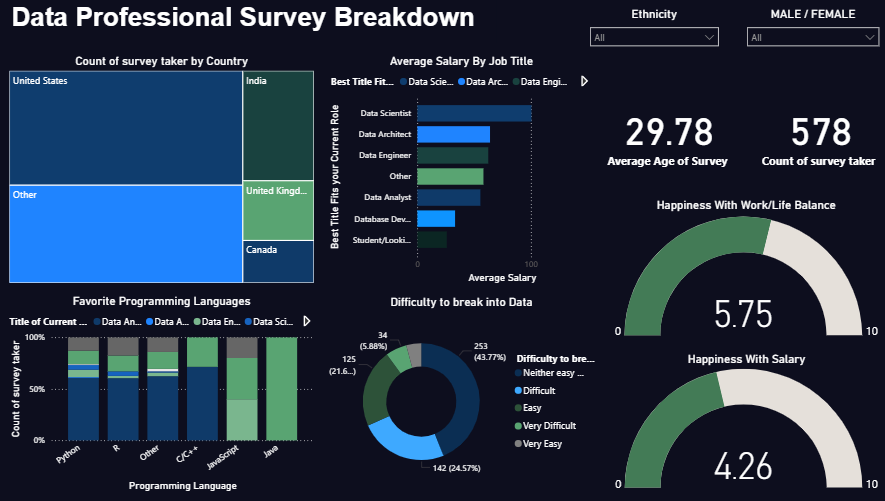

This screenshot's page, from the dashboard's own definition file:
{"tool":"powerbi","page":{"name":"SURVEY BREAKDOWN","canvas":[1280,720],"ordinal":0},"visuals":[{"type":"shape","box":[10.3,0,1269.7,720.4],"z":0},{"type":"textbox","box":[10.3,0,713.6,63.3],"z":1000},{"type":"card","fields":{"Values":["CountNonNull(Data Professional Survey.Unique ID)"]},"box":[1093.5,121.5,186.5,142],"z":2000},{"type":"card","fields":{"Values":["Avg(Data Professional Survey.Q10 - Current Age)"]},"box":[869.3,121.5,200.2,142],"z":3000},{"type":"treemap","fields":{"Group":["Data Professional Survey.Q11 - Which Country do you live in?.1"],"Values":["CountNonNull(Data Professional Survey.Unique ID)"]},"box":[22.2,78.7,444.9,332],"z":4000},{"type":"barChart","title":"Average Salary  By Job Title ","fields":{"Category":["Data Professional Survey.Q1 - Which Title Best Fits your Current Role?.1"],"Y":["Avg(Data Professional Survey.Average Salary )"],"Series":["Data Professional Survey.Q1 - Which Title Best Fits your Current Role?.1"]},"box":[479.1,78.7,390.2,332],"z":5000},{"type":"gauge","title":"Happiness With Work/Life Balance","fields":{"Y":["Avg(Data Professional Survey.Q6 - How Happy are you in your Current Position with the following? (Work/Life Balance))"],"MinValue":["Min(Data Professional Survey.Q6 - How Happy are you in your Current Position with the following? (Work/Life Balance))"],"MaxValue":["Max(Data Professional Survey.Q6 - How Happy are you in your Current Position with the following? (Work/Life Balance))1"]},"box":[883,284.1,395.3,208.8],"z":6000},{"type":"hundredPercentStackedColumnChart","title":"Favorite Programming Languages ","fields":{"Category":["Data Professional Survey.Q5 - Favorite Programming Language.1.1"],"Y":["CountNonNull(Data Professional Survey.Unique ID)"],"Series":["Data Professional Survey.Q1 - Which Title Best Fits your Current Role?.1"]},"box":[22.2,421,444.9,287.5],"z":7000},{"type":"gauge","title":"Happiness With Salary ","fields":{"Y":["Avg(Data Professional Survey.Q6 - How Happy are you in your Current Position with the following? (Salary))"],"MinValue":["Min(Data Professional Survey.Q6 - How Happy are you in your Current Position with the following? (Salary))1"],"MaxValue":["Max(Data Professional Survey.Q6 - How Happy are you in your Current Position with the following? (Salary))2"]},"box":[881.3,504.8,398.7,203.6],"z":8000},{"type":"donutChart","title":" Difficulty to break into Data ","fields":{"Category":["Data Professional Survey.Q7 - How difficult was it for you to break into Data?"],"Y":["CountNonNull(Data Professional Survey.Q7 - How difficult was it for you to break into Data?)"]},"box":[479.1,422.7,390.2,285.8],"z":9000},{"type":"slicer","title":"MALE / FEMALE","fields":{"Values":["Data Professional Survey.Q9 - Male/Female?"]},"box":[1071.2,12,208.8,65],"z":10000},{"type":"slicer","title":"Ethnicity","fields":{"Values":["Data Professional Survey.Q13 - Ethnicity.1"]},"box":[847.1,12,203.6,63.3],"z":11000}]}

Visuals, with their boxes in screenshot pixels (x1, y1, x2, y2), scaled from the page's 1280x720 canvas onto the 885x501 screenshot:
shape: rect(7, 0, 884, 500)
textbox: rect(7, 0, 501, 44)
card - CountNonNull(Data Professional Survey.Unique ID): rect(756, 85, 884, 183)
card - Avg(Data Professional Survey.Q10 - Current Age): rect(601, 85, 739, 183)
treemap - Data Professional Survey.Q11 - Which Country do you live in?.1 x CountNonNull(Data Professional Survey.Unique ID): rect(15, 55, 323, 286)
"Average Salary  By Job Title " barChart: rect(331, 55, 601, 286)
"Happiness With Work/Life Balance" gauge: rect(611, 198, 884, 343)
"Favorite Programming Languages " hundredPercentStackedColumnChart: rect(15, 293, 323, 493)
"Happiness With Salary " gauge: rect(609, 351, 884, 493)
" Difficulty to break into Data " donutChart: rect(331, 294, 601, 493)
"MALE / FEMALE" slicer: rect(741, 8, 884, 54)
"Ethnicity" slicer: rect(586, 8, 726, 52)
